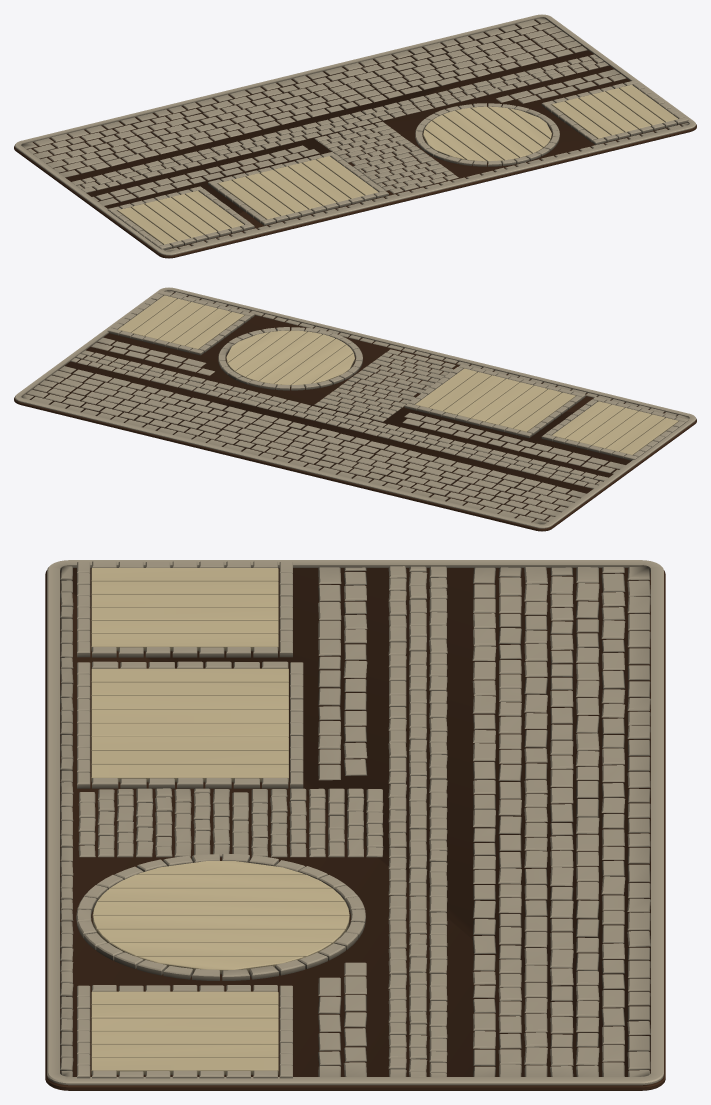
The model's file is town_ground.glb.
The picture shows the model from 3 angles, top to bottom: view 1: azimuth 30°, elevation 25°; view 2: azimuth 150°, elevation 25°; view 3: azimuth 270°, elevation 25°; orthographic projection. The views are drawn at different scales.
Parts seen in each view (by area): view 1: TownGround_Street, TownGround_Plot, TownGround_Slab; view 2: TownGround_Street, TownGround_Plot, TownGround_Slab; view 3: TownGround_Street, TownGround_Plot, TownGround_Slab.
Part boxes in pixels (x1,y1,x2,y2): TownGround_Street: (14,14,696,255); TownGround_Plot: (107,80,688,250); TownGround_Slab: (14,20,696,258); TownGround_Street: (14,287,696,528); TownGround_Plot: (107,291,688,460); TownGround_Slab: (14,292,696,531); TownGround_Street: (47,560,663,1085); TownGround_Plot: (76,561,365,1078); TownGround_Slab: (45,568,665,1090).
Size of the model in its own units: 0.6 by 0.006 by 0.3.
